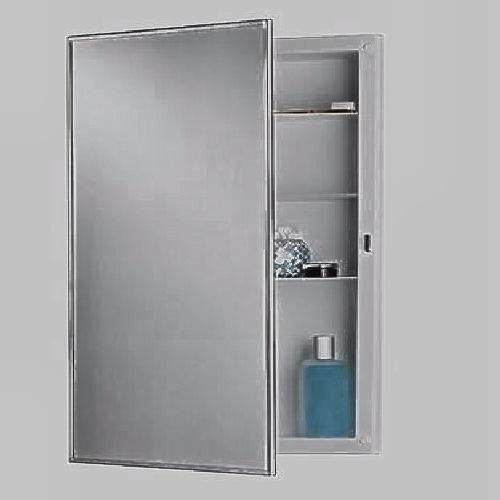cabinet: (66, 21, 388, 455)
